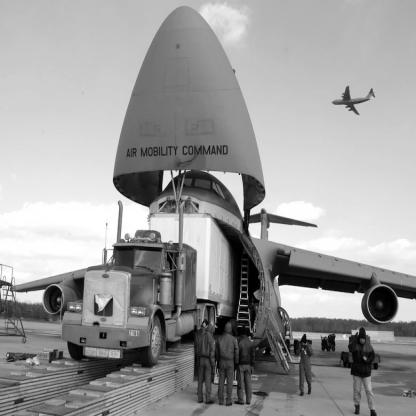C5: (11, 6, 416, 376), (332, 86, 377, 117)
